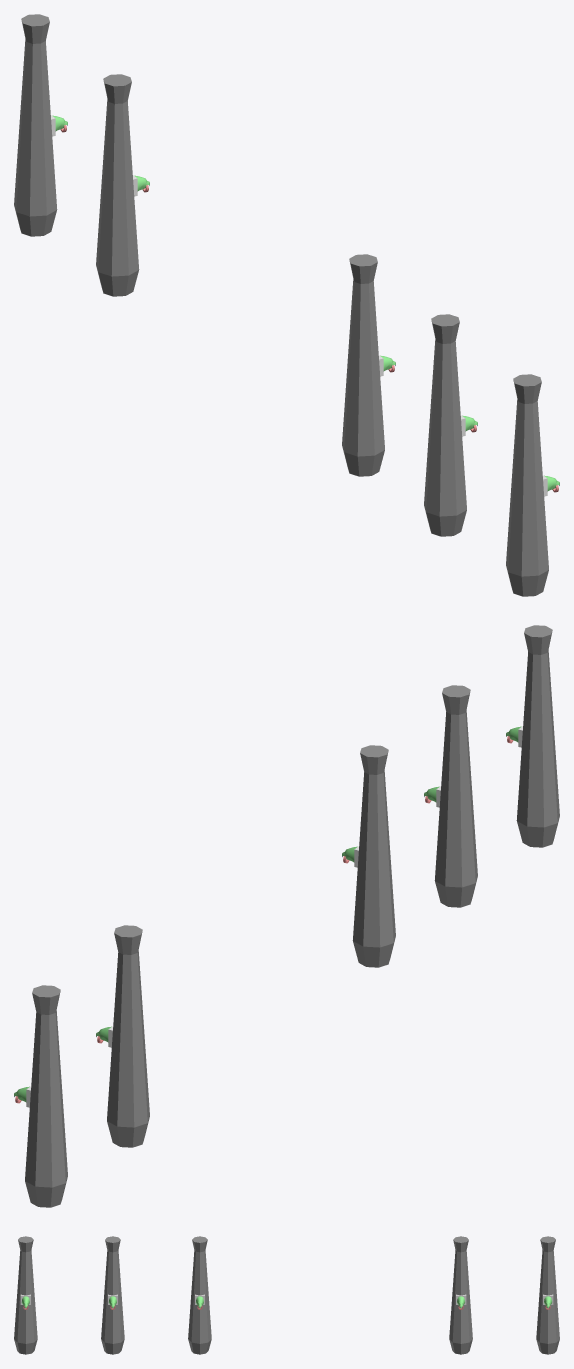
Rendered from SSQ_dungeon_S__SSQ_MRoom_pillar02.gltf.
3 views of the same model, one above another, from view 1: azimuth 30°, elevation 25°; view 2: azimuth 150°, elevation 25°; view 3: azimuth 270°, elevation 25° (orthographic). The views are drawn at different scales.
Visible parts, largest first — view 1: SSQ_MRoom_pillar02; view 2: SSQ_MRoom_pillar02; view 3: SSQ_MRoom_pillar02.
Part boxes in pixels (x1,y1,x2,y2): SSQ_MRoom_pillar02: [14, 14, 559, 596]; SSQ_MRoom_pillar02: [14, 625, 559, 1207]; SSQ_MRoom_pillar02: [14, 1236, 559, 1354].
Size of the model in its own units: 0.935 by 3.61 by 16.06.
